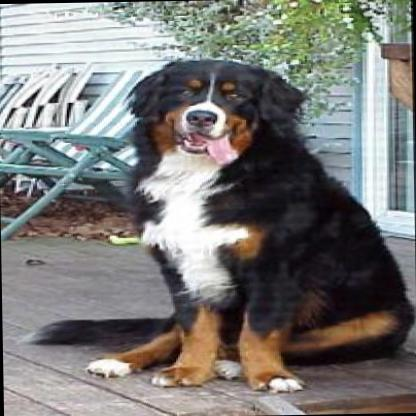Greater_Swiss_Mountain_dog: (22, 53, 411, 398)
